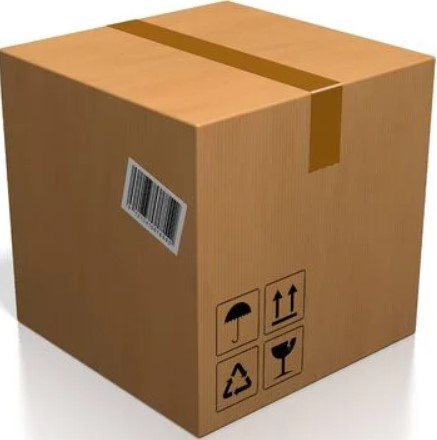stock: (2, 3, 435, 437)
